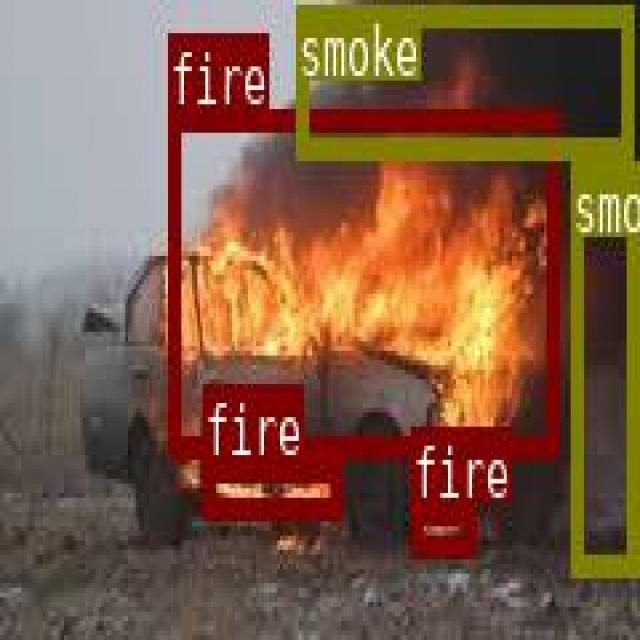fire: (165, 107, 557, 450), (202, 457, 341, 515), (411, 502, 474, 553)
smoke: (296, 1, 631, 154), (569, 159, 635, 569)
